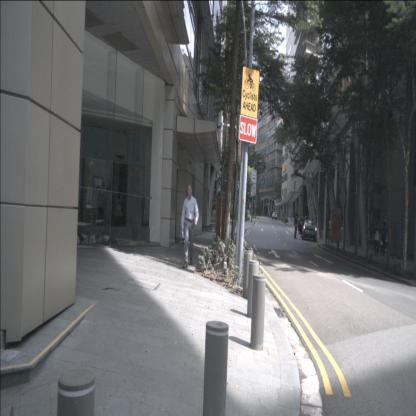human-pedestrian-adult: (181, 183, 199, 268), (380, 218, 389, 257), (372, 221, 381, 256), (294, 213, 298, 239)
vehicle-car: (297, 218, 317, 242), (269, 209, 274, 218), (272, 212, 277, 220)
